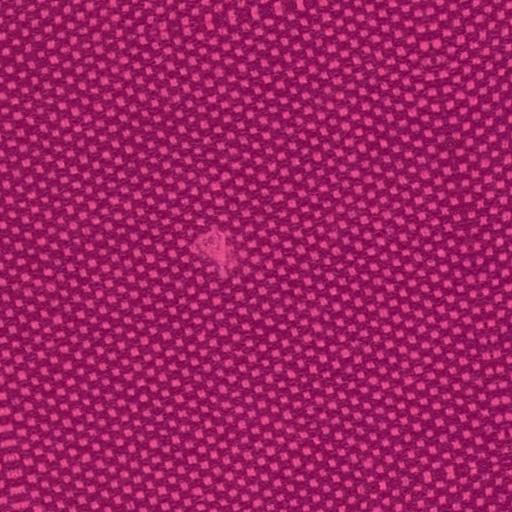knot: (190, 219, 237, 279)
